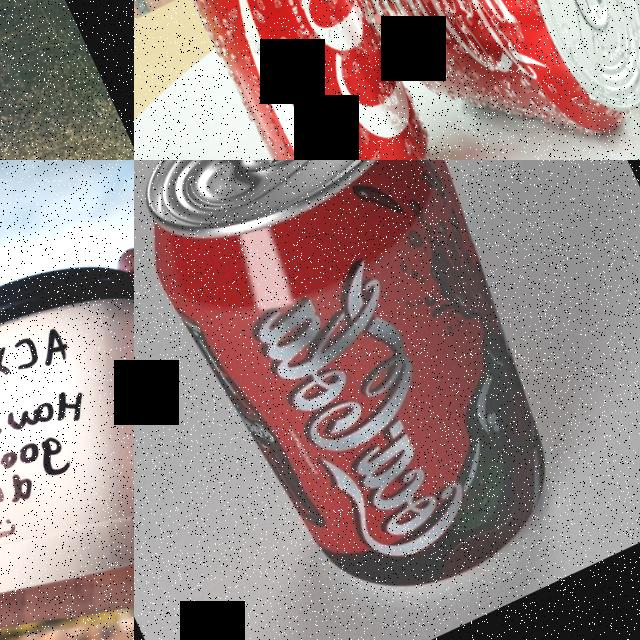bottle: (0, 0, 97, 160)
can: (134, 160, 612, 640), (134, 0, 468, 160), (320, 0, 640, 160)
cup: (0, 223, 134, 640)
